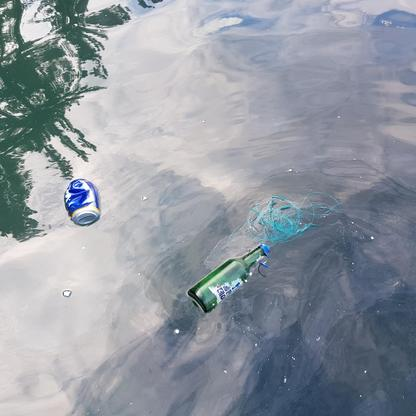can: (64, 177, 100, 228)
